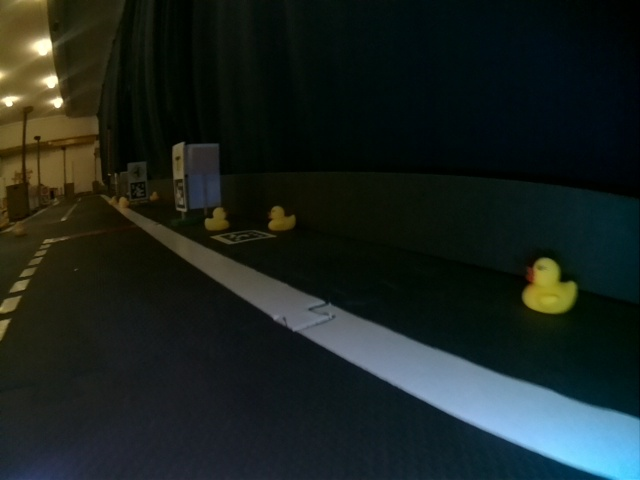Duckie: (522, 260, 577, 314), (269, 207, 295, 230), (206, 209, 228, 229), (15, 224, 25, 235), (150, 192, 159, 200), (110, 197, 118, 206), (119, 197, 127, 205)
Intersection sign: (173, 148, 183, 176), (130, 165, 145, 180)
QR code: (214, 229, 274, 244), (174, 180, 186, 210), (131, 182, 146, 198)
